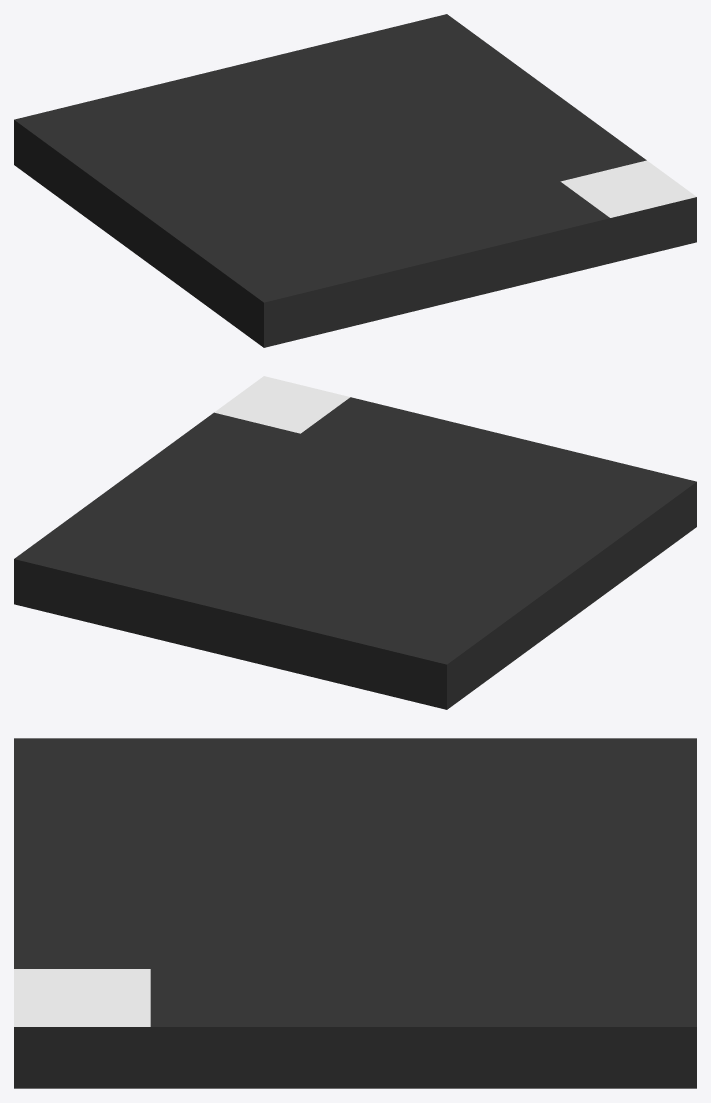
The model's file is Mod_TileRoad_04.fbx.
3 renders of one model, top to bottom at view 1: azimuth 30°, elevation 25°; view 2: azimuth 150°, elevation 25°; view 3: azimuth 270°, elevation 25°, orthographic. The views are drawn at different scales.
Parts seen in each view (by area): view 1: Mod_TileRoad_04; view 2: Mod_TileRoad_04; view 3: Mod_TileRoad_04.
Part boxes in pixels (x1=…): Mod_TileRoad_04: x1=14, y1=14, x2=696, y2=347; Mod_TileRoad_04: x1=14, y1=376, x2=696, y2=709; Mod_TileRoad_04: x1=14, y1=738, x2=696, y2=1088.
Bounding box in the file's own units: 100 × 10 × 100.
